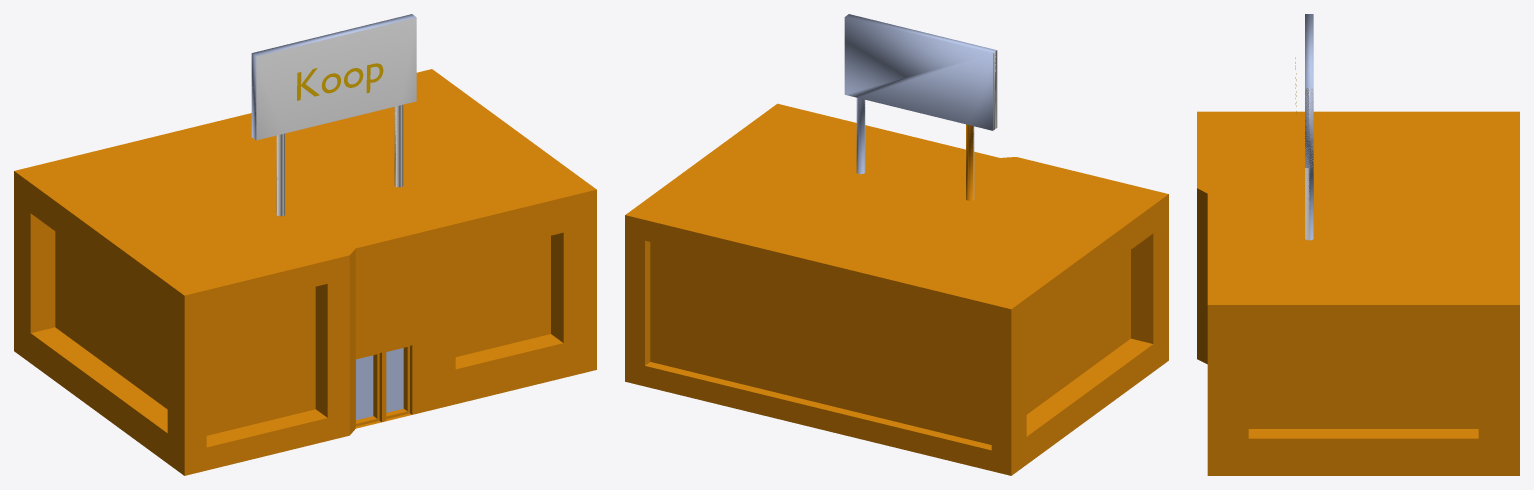
The model's file is Coop.fbx.
3 views of the same model, side by side, from view 1: azimuth 30°, elevation 25°; view 2: azimuth 150°, elevation 25°; view 3: azimuth 270°, elevation 25° (orthographic). The views are drawn at different scales.
Parts seen in each view (by area): view 1: Cube, Cube.001, Text; view 2: Cube, Cube.001; view 3: Cube, Cube.001.
Boxes of the visible parts, <box> form: Cube: <box>14,14,596,475</box>; Cube.001: <box>253,17,416,216</box>; Text: <box>297,63,383,100</box>; Cube: <box>625,14,1168,475</box>; Cube.001: <box>864,50,997,199</box>; Cube: <box>1197,14,1519,475</box>; Cube.001: <box>1305,88,1313,240</box>.
Bounding box in the file's own units: 1042 × 825 × 735.
